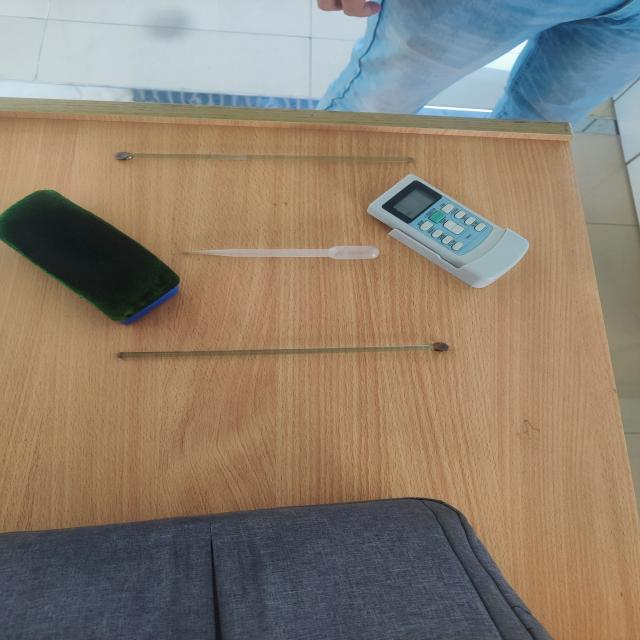Glass_Rod: (80, 316, 477, 398), (78, 125, 448, 191)
Pipette: (163, 231, 420, 281)
